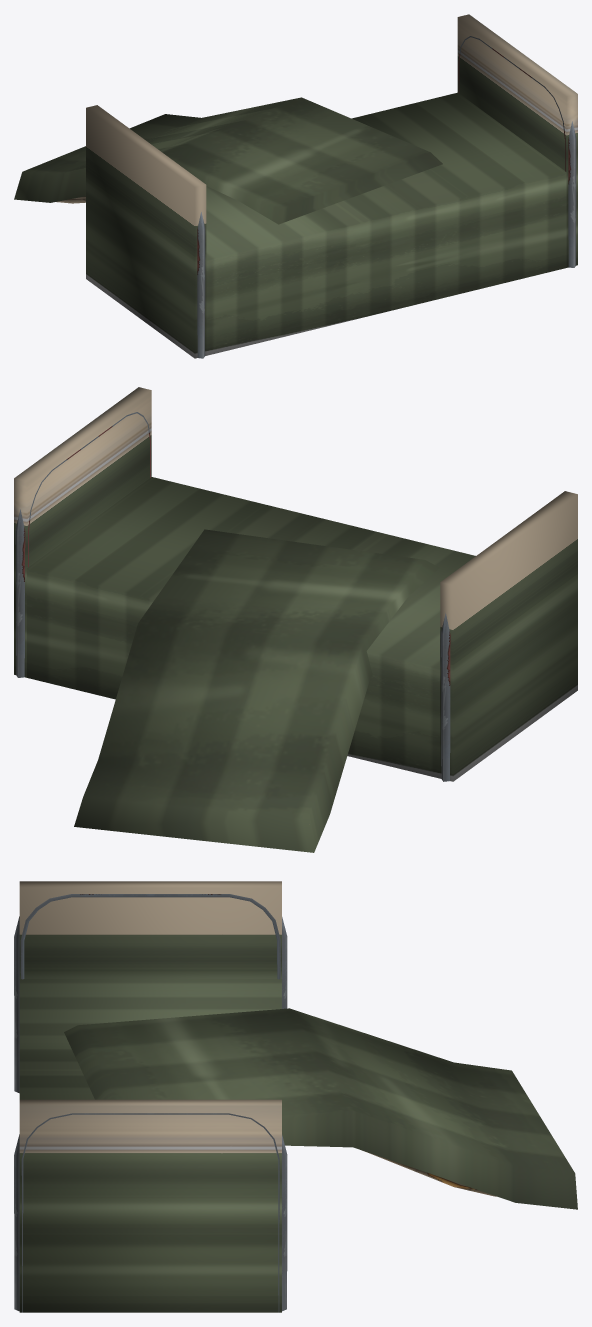
File: bed03_E.fbx
The picture shows the model from 3 angles, top to bottom: view 1: azimuth 30°, elevation 25°; view 2: azimuth 150°, elevation 25°; view 3: azimuth 270°, elevation 25°; orthographic projection. The views are drawn at different scales.
Parts seen in each view (by area): view 1: bed03_E_COL, bed03_E; view 2: bed03_E_COL, bed03_E; view 3: bed03_E_COL, bed03_E.
Part boxes in pixels (x1,y1,x2,y2): bed03_E_COL: [14, 14, 577, 358]; bed03_E: [57, 36, 576, 358]; bed03_E_COL: [14, 387, 577, 852]; bed03_E: [15, 412, 450, 781]; bed03_E_COL: [19, 881, 577, 1312]; bed03_E: [14, 894, 496, 1312].
Bounding box in the file's own units: 216 × 91.99 × 228.
